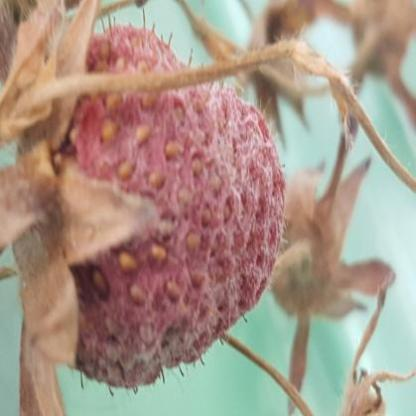Strawberry_Powdery_Mildew_Fruit: (24, 25, 288, 392)
